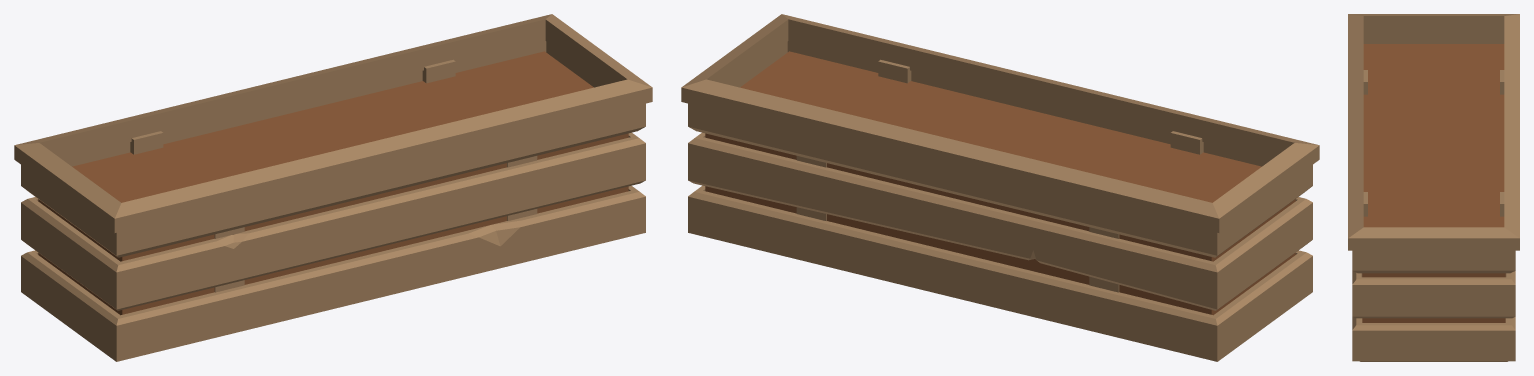
The model's file is Plantbox.fbx.
3 renders of one model, left to right at view 1: azimuth 30°, elevation 25°; view 2: azimuth 150°, elevation 25°; view 3: azimuth 270°, elevation 25°, orthographic. The views are drawn at different scales.
Parts seen in each view (by area): view 1: PlanterBushes; view 2: PlanterBushes; view 3: PlanterBushes.
Boxes of the visible parts, <box> form: PlanterBushes: <box>14,14,652,361</box>; PlanterBushes: <box>681,14,1319,361</box>; PlanterBushes: <box>1348,14,1519,361</box>.
Bounding box in the file's own units: 2.37 × 0.6569 × 0.7672.
